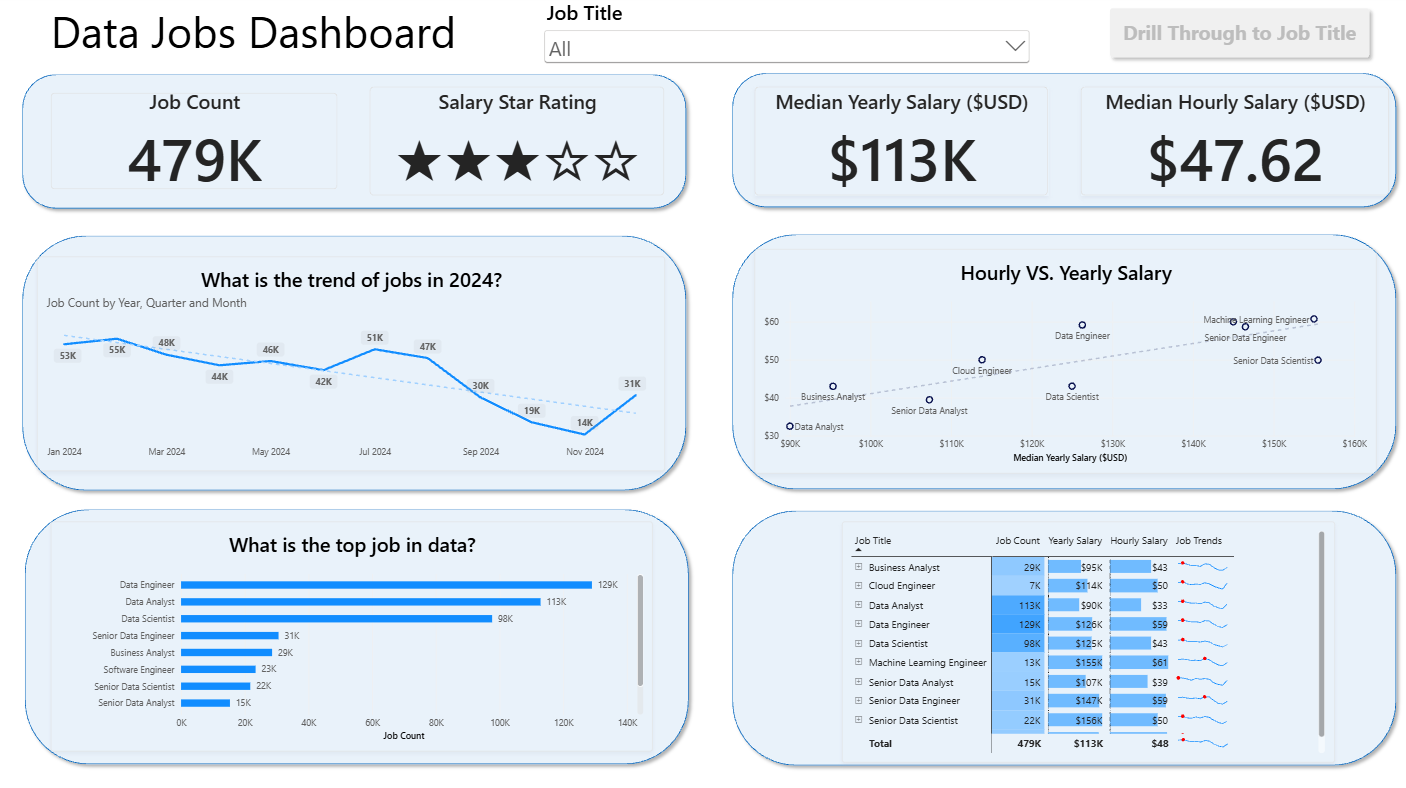

Layout of this report page (visuals, bound fields, positions):
{"tool":"powerbi","page":{"name":"Data Jobs Dashboard","canvas":[1920,1080],"ordinal":0},"visuals":[{"type":"group","id":"g1","title":"Background","box":[24.8,91.9,1882.5,958.2],"z":0},{"type":"shape","box":[988.8,91.9,918.6,199.9],"z":0,"group":"g1"},{"type":"textbox","box":[72.9,3.4,607.2,84.8],"z":1000},{"type":"shape","box":[25.2,93.7,918.6,199.9],"z":1000,"group":"g1"},{"type":"slicer","fields":{"Values":["job_postings_flat.job_title_short"]},"box":[738,0,668.2,91.9],"z":2000},{"type":"shape","box":[24.8,312.6,918.6,363.8],"z":2000,"group":"g1"},{"type":"cardVisual","fields":{"Data":["CountNonNull(job_postings_flat.job_title_short)"]},"box":[73.2,127.2,389.2,131],"z":3000},{"type":"shape","box":[988.8,309.8,918.6,363.8],"z":3000,"group":"g1"},{"type":"cardVisual","fields":{"Data":["job_postings_flat.salary_star_rating"]},"box":[504.9,119.5,400.8,148.4],"z":4000},{"type":"shape","box":[28.4,684,918.6,363.8],"z":4000,"group":"g1"},{"type":"cardVisual","fields":{"Data":["Median(job_postings_flat.salary_hour_avg)"]},"box":[1470.3,119.5,418.1,148.4],"z":5000},{"type":"shape","box":[988.8,686.3,918.6,363.8],"z":5000,"group":"g1"},{"type":"cardVisual","fields":{"Data":["Median(job_postings_flat.salary_year_avg)"]},"box":[1027.1,119.5,398.9,148.4],"z":6000},{"type":"lineChart","title":"What is the trend of jobs in 2024?","fields":{"Category":["job_postings_flat.job_posted_date.Variation.Date Hierarchy.Year","job_postings_flat.job_posted_date.Variation.Date Hierarchy.Quarter","job_postings_flat.job_posted_date.Variation.Date Hierarchy.Month","job_postings_flat.job_posted_date.Variation.Date Hierarchy.Day"],"Y":["CountNonNull(job_postings_flat.job_title)"]},"box":[54,348.8,851.7,291],"z":7000},{"type":"barChart","title":"What is the top job in data?","fields":{"Category":["job_postings_flat.job_title_short"],"Y":["CountNonNull(job_postings_flat.job_title_short)"]},"box":[73.2,709.1,817,312.2],"z":8000},{"type":"scatterChart","title":"Hourly VS. Yearly Salary","fields":{"Series":["job_postings_flat.job_title_short"],"X":["Median(job_postings_flat.salary_year_avg)"],"Y":["Median(job_postings_flat.salary_hour_avg)"]},"box":[1027.1,339.1,844,304.5],"z":9000},{"type":"pivotTable","fields":{"Rows":["job_postings_flat.job_title_short","job_postings_flat.job_posted_date.Variation.Date Hierarchy.Quarter"],"Values":["CountNonNull(job_postings_flat.job_title_short)","Median(job_postings_flat.salary_year_avg)","Median(job_postings_flat.salary_hour_avg)","SparklineData(CountNonNull(job_postings_flat.job_title_short)_[job_postings_flat.job_posted_date.Variation.Date Hierarch"]},"box":[1146.5,709.1,668.7,327.6],"z":10000},{"type":"actionButton","box":[1501.4,3.6,369.9,84.8],"z":11000}]}

Visuals, with their boxes in screenshot pixels (x1, y1, x2, y2), scaled from the page's 1920x1080 canvas onto the 1406x788 screenshot:
"Background" group: x1=18 y1=67 x2=1397 y2=766
shape: x1=724 y1=67 x2=1397 y2=213
textbox: x1=53 y1=2 x2=498 y2=64
shape: x1=18 y1=68 x2=691 y2=214
slicer - job_postings_flat.job_title_short: x1=540 y1=0 x2=1030 y2=67
shape: x1=18 y1=228 x2=691 y2=494
cardVisual - CountNonNull(job_postings_flat.job_title_short): x1=54 y1=93 x2=339 y2=188
shape: x1=724 y1=226 x2=1397 y2=491
cardVisual - job_postings_flat.salary_star_rating: x1=370 y1=87 x2=663 y2=195
shape: x1=21 y1=499 x2=693 y2=765
cardVisual - Median(job_postings_flat.salary_hour_avg): x1=1077 y1=87 x2=1383 y2=195
shape: x1=724 y1=501 x2=1397 y2=766
cardVisual - Median(job_postings_flat.salary_year_avg): x1=752 y1=87 x2=1044 y2=195
"What is the trend of jobs in 2024?" lineChart: x1=40 y1=254 x2=663 y2=467
"What is the top job in data?" barChart: x1=54 y1=517 x2=652 y2=745
"Hourly VS. Yearly Salary" scatterChart: x1=752 y1=247 x2=1370 y2=470
pivotTable - job_postings_flat.job_title_short x job_postings_flat.job_posted_date.Variation.Date Hierarchy.Quarter: x1=840 y1=517 x2=1329 y2=756
actionButton: x1=1099 y1=3 x2=1370 y2=64
